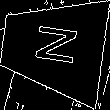N_W: (27, 24, 79, 71)
